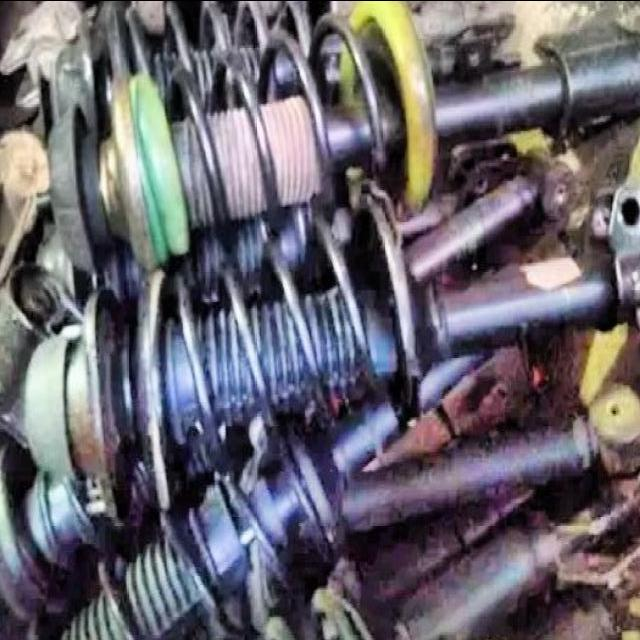shock absorber: (24, 193, 621, 524), (48, 2, 637, 275)
